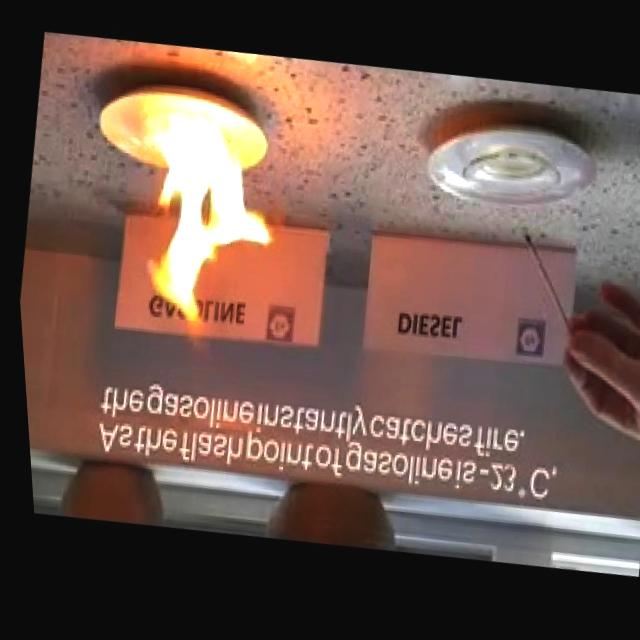Fire: (123, 116, 295, 357)
